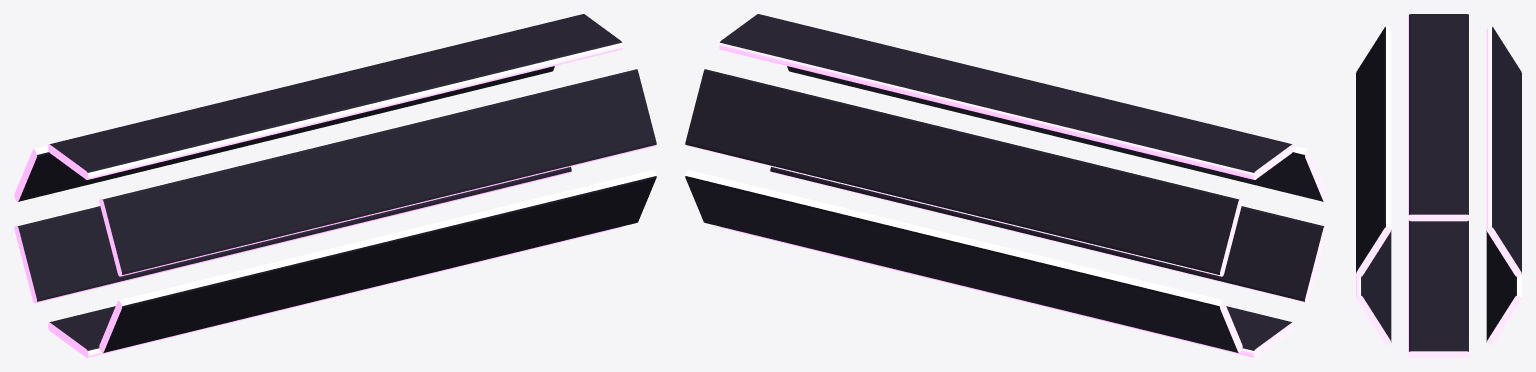
Rendered from tunnel.fbx.
The picture shows the model from 3 angles, left to right: view 1: azimuth 30°, elevation 25°; view 2: azimuth 150°, elevation 25°; view 3: azimuth 270°, elevation 25°; orthographic projection. The views are drawn at different scales.
Visible parts, largest first — view 1: TestTunnel; view 2: TestTunnel; view 3: TestTunnel.
Part boxes in pixels (left/top/right/bottom): TestTunnel: left=14, top=14, right=656, bottom=357; TestTunnel: left=685, top=14, right=1327, bottom=357; TestTunnel: left=1356, top=14, right=1521, bottom=357.
Bounding box in the file's own units: 5175 × 1727 × 1809.
